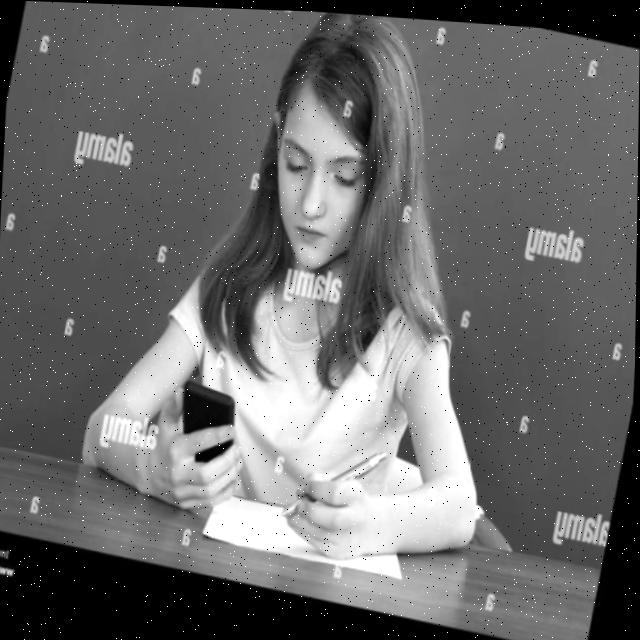phone: (280, 428, 390, 534), (172, 377, 245, 468)
